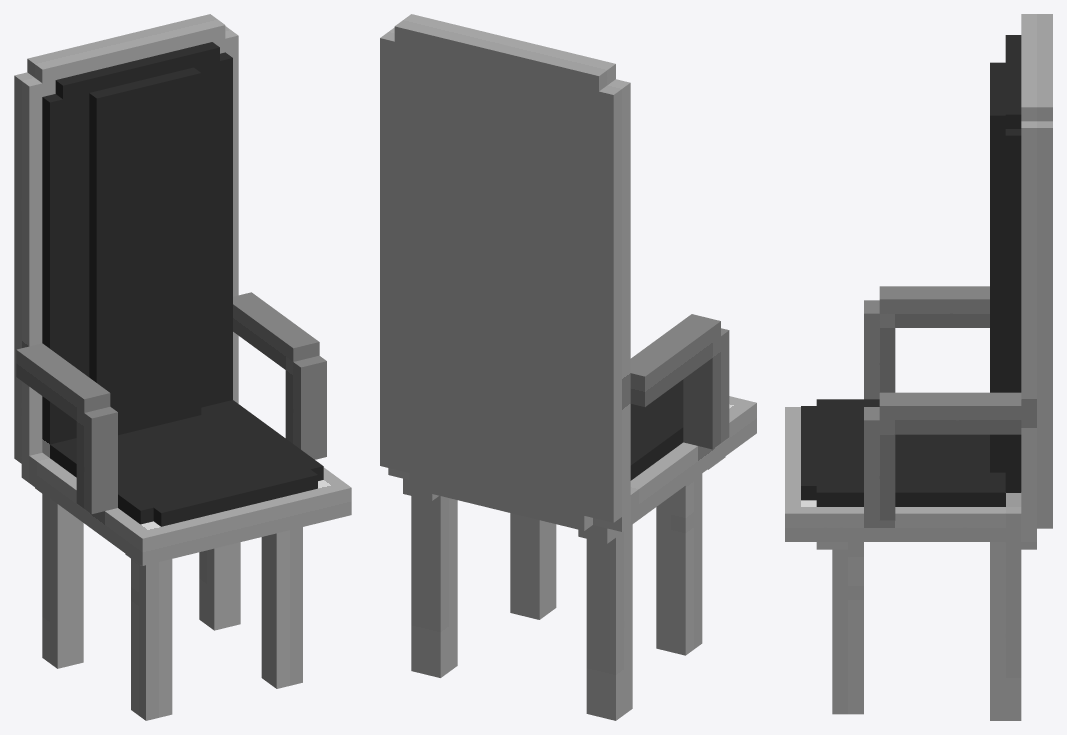
The model's file is chair.dae.
3 renders of one model, left to right at view 1: azimuth 30°, elevation 25°; view 2: azimuth 150°, elevation 25°; view 3: azimuth 270°, elevation 25°, orthographic. The views are drawn at different scales.
Visible parts, largest first — view 1: chair; view 2: chair; view 3: chair.
Boxes of the visible parts, bbox=[...] form: chair: bbox=[14, 14, 351, 720]; chair: bbox=[380, 14, 756, 720]; chair: bbox=[785, 14, 1052, 720].
Bounding box in the file's own units: 1.8 × 1.7 × 4.3.
Materials: 1 (1 with a texture image).
